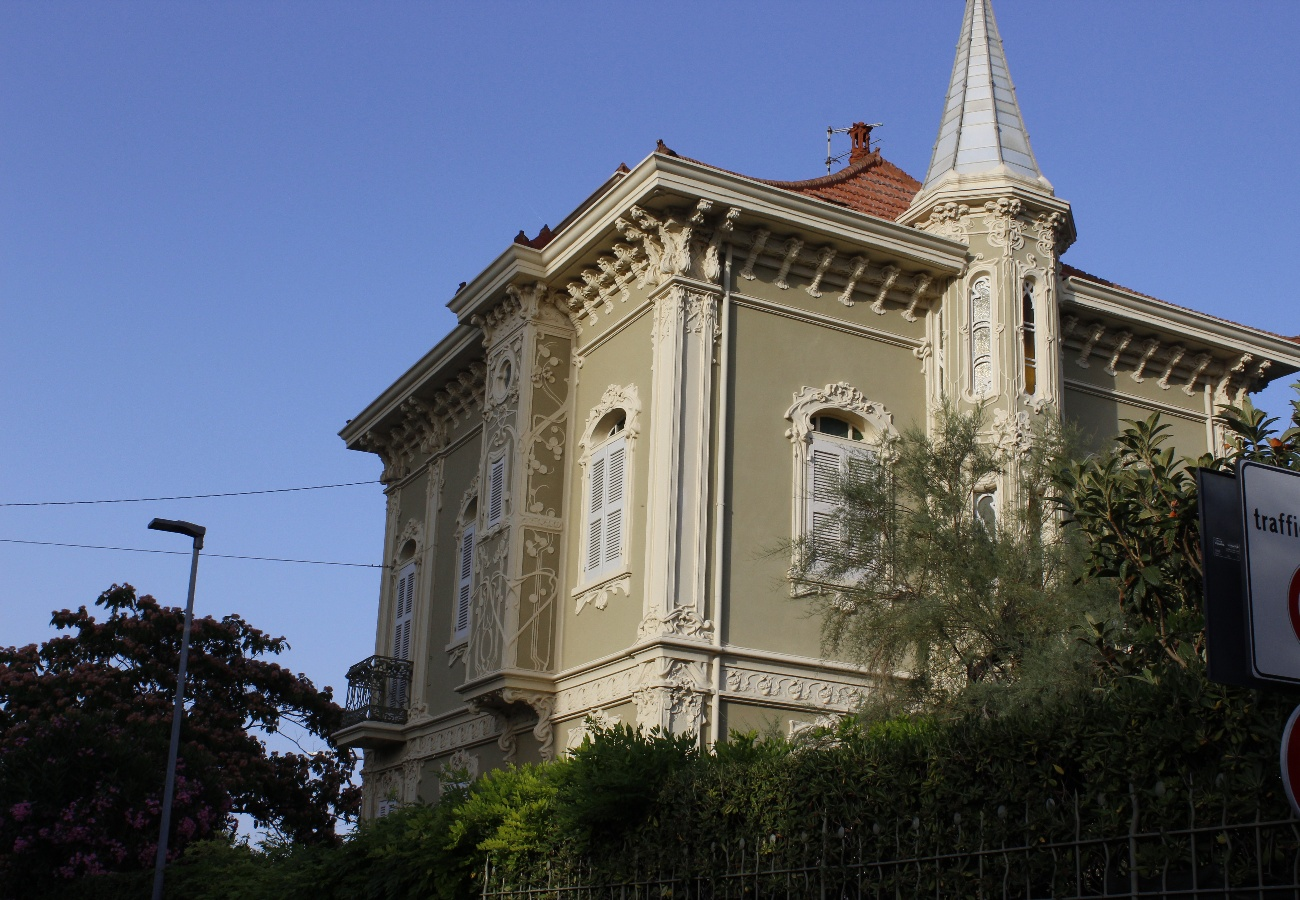Villino Ruggeri: (336, 3, 1241, 843)
